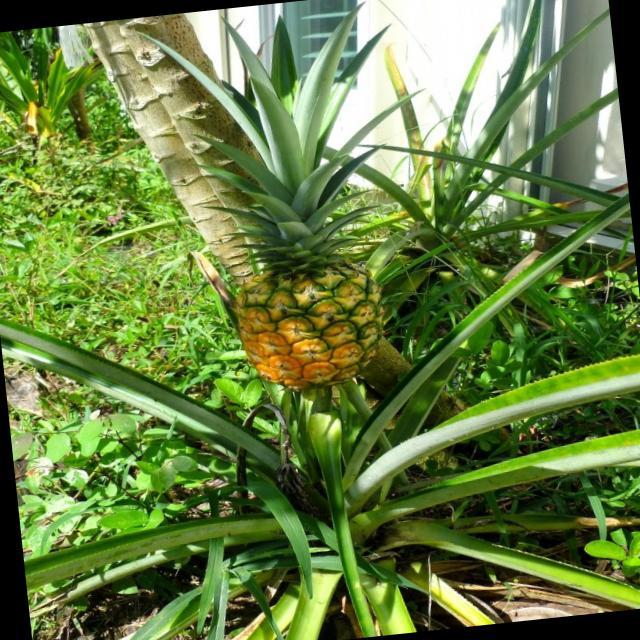PINEAPLE: (195, 9, 397, 391)
